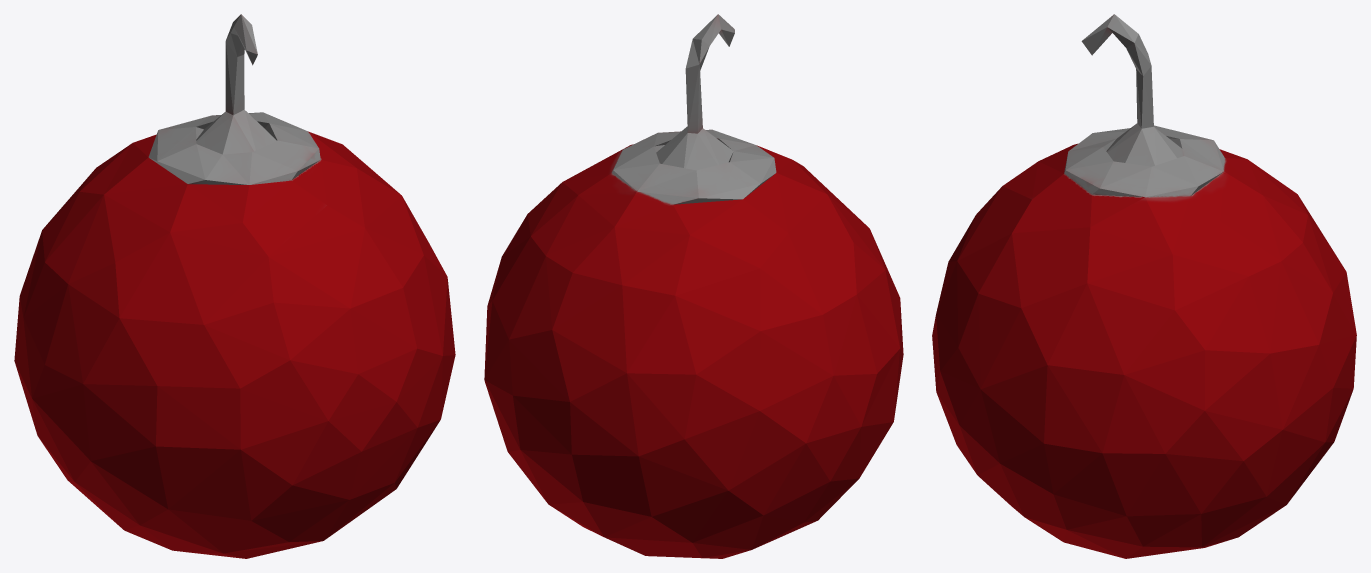
File: redornimate.dae
3 renders of one model, left to right at view 1: azimuth 30°, elevation 25°; view 2: azimuth 150°, elevation 25°; view 3: azimuth 270°, elevation 25°, orthographic. The views are drawn at different scales.
Visible parts, largest first — view 1: redball; view 2: redball; view 3: redball.
Boxes of the visible parts, <box> form: redball: <box>14,14,455,558</box>; redball: <box>484,14,903,558</box>; redball: <box>932,14,1356,558</box>.
Size of what is drawn, in the model's own units: 2 by 2 by 2.69.
